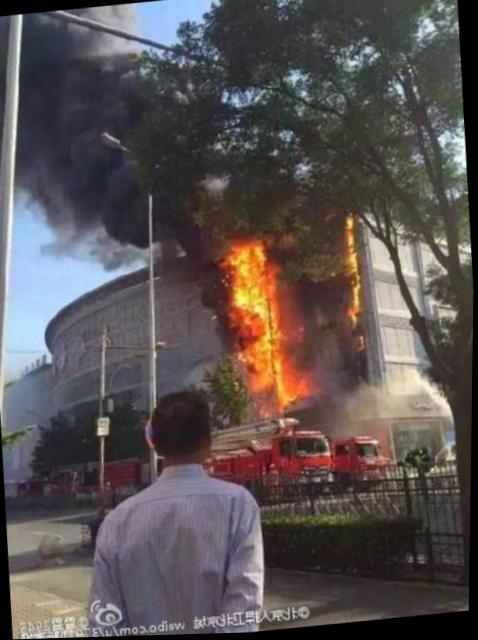fire: (234, 239, 283, 338), (243, 333, 301, 407)
